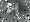person: (12, 3, 18, 17), (5, 5, 11, 17)
